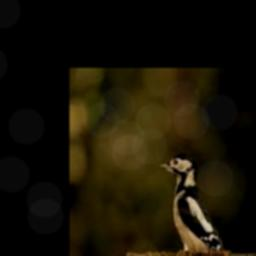Woodpecker: (158, 154, 224, 251)
